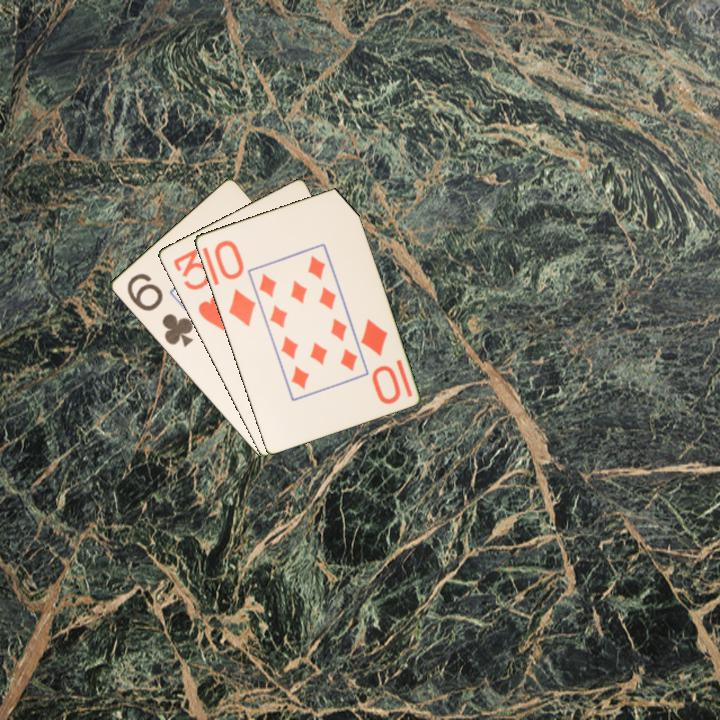10d: (210, 236, 258, 330), (357, 315, 404, 407)
3h: (169, 245, 229, 334)
6c: (123, 269, 196, 350)
